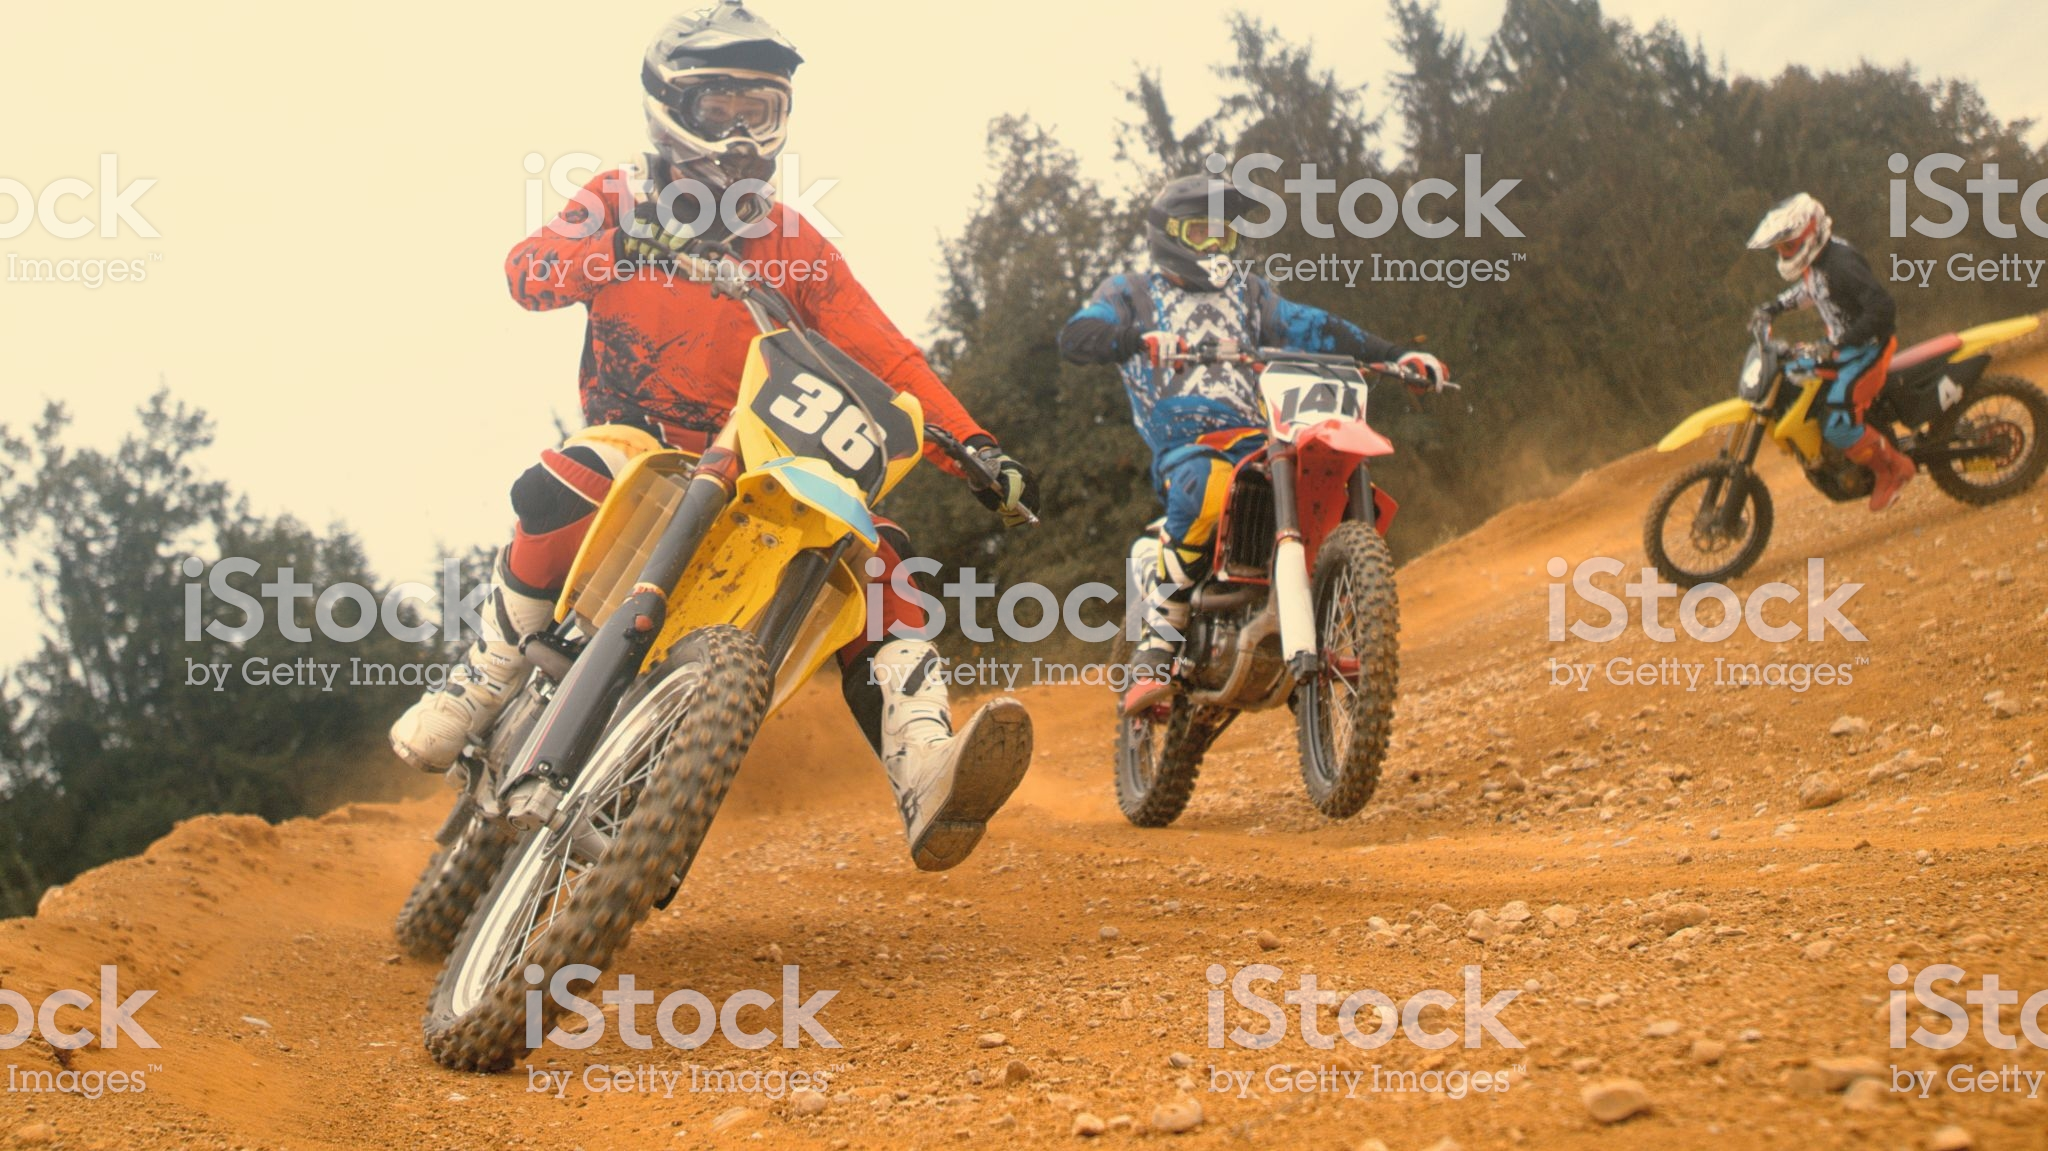helmet: (644, 15, 828, 229), (1139, 179, 1252, 301), (1741, 191, 1840, 286)
